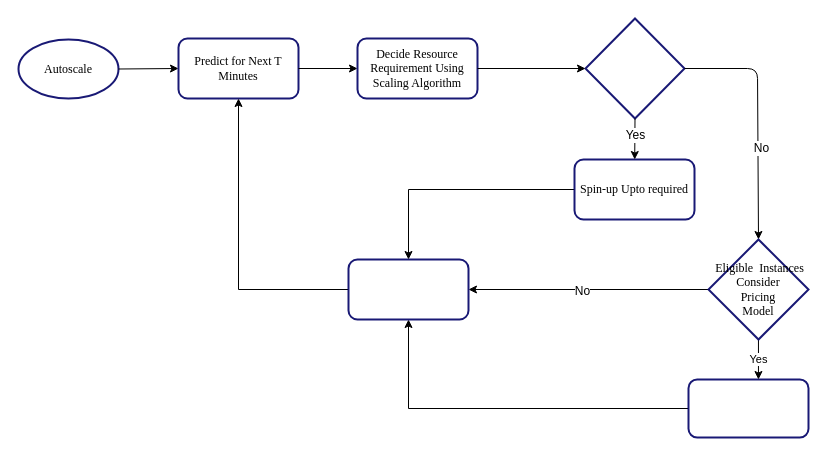
The diagram is 826 pixels wide and 455 high, and some of its shapes have lost their labels. Each missing label, with the centre of its shape:
"Generate Stat From Instances" goes at [408,289].
"Require Larger Than Current" goes at [634,68].
"Spin-down Upto Required" goes at [748,408].
